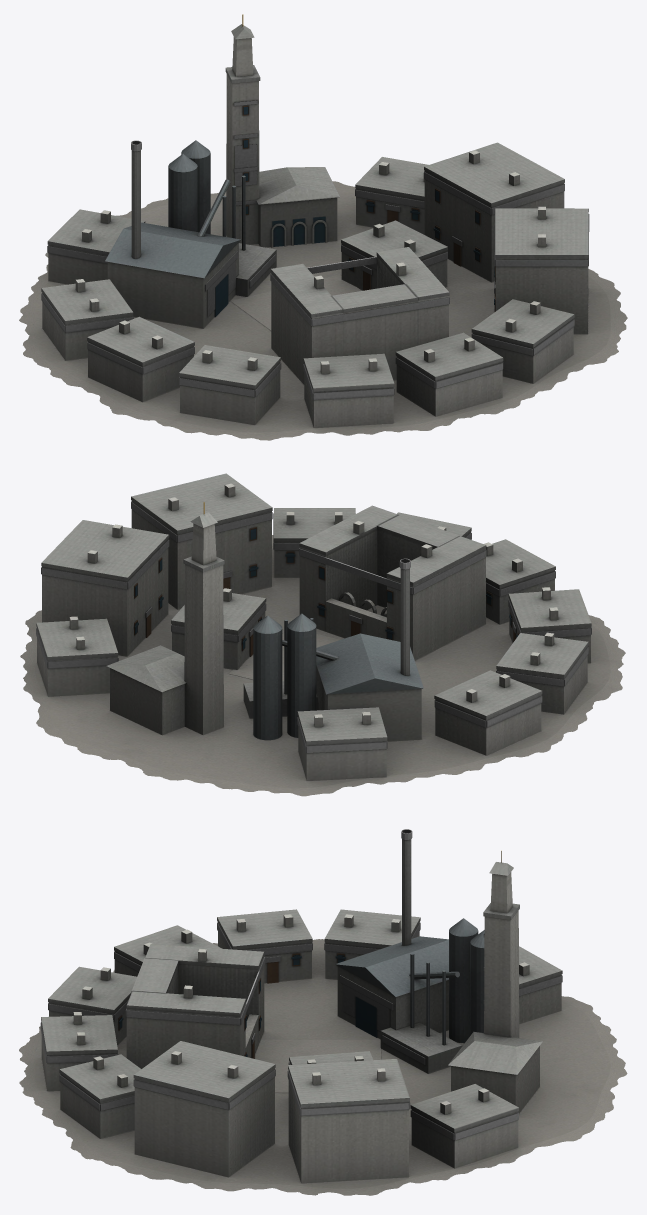
The model's file is modern-town-medium-b-maghreb-786b8ccf.glb.
The picture shows the model from 3 angles, top to bottom: view 1: azimuth 30°, elevation 25°; view 2: azimuth 150°, elevation 25°; view 3: azimuth 270°, elevation 25°; orthographic projection.
Visible parts, largest first — view 1: LOD0; view 2: LOD0; view 3: LOD0.
Part boxes in pixels (box(x1,y1,x2,y2)): LOD0: box(19, 14, 627, 440); LOD0: box(20, 473, 625, 796); LOD0: box(19, 829, 627, 1195).
Size of what is drawn, in the model's own units: 5.97 by 2.4 by 5.91.
3 materials, 3 textured.
